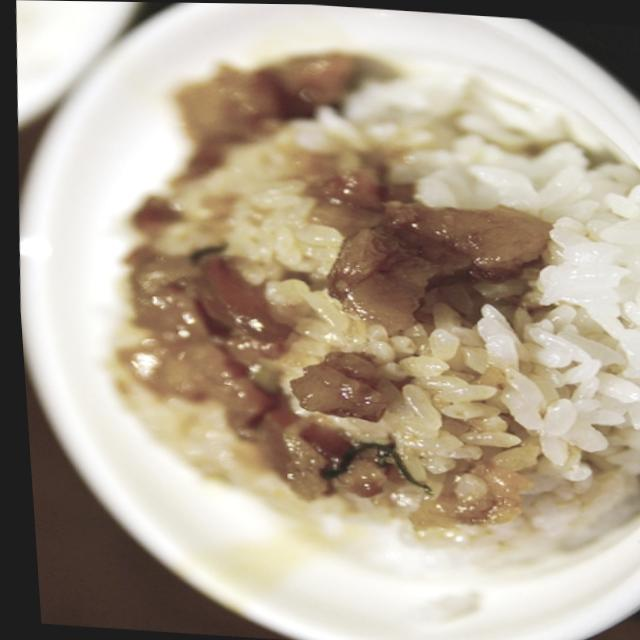猪肉菜式: (31, 0, 640, 599)
